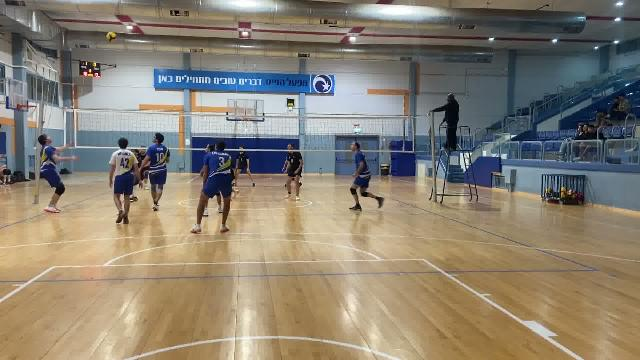ball: (104, 33, 119, 45)
